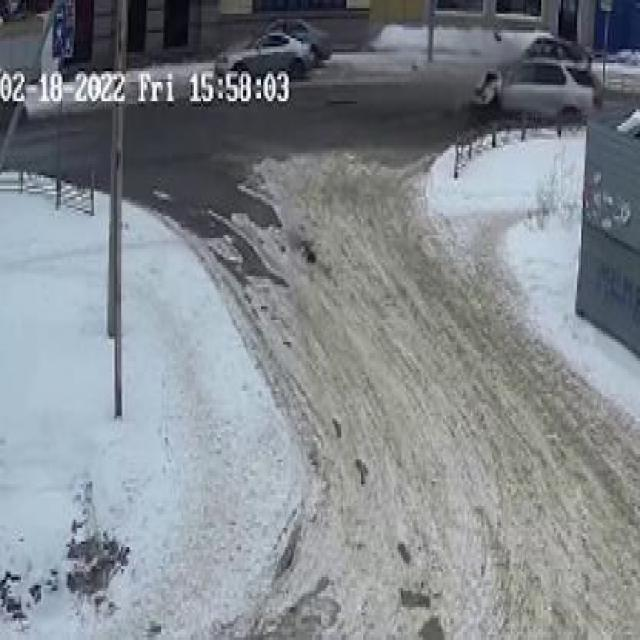accident: (471, 25, 602, 131)
